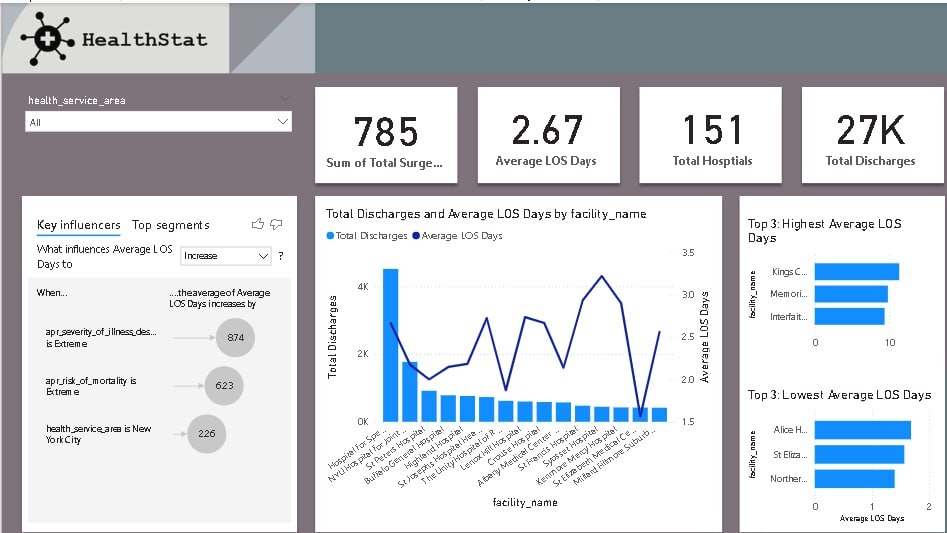

The page's visual inventory and layout, read from the dashboard file:
{"tool":"powerbi","page":{"name":"LOS  Comparison","canvas":[1280,720],"ordinal":2},"visuals":[{"type":"keyDriversVisual","fields":{"ExplainBy":["hospital_inpatient_discharges_totalhipreplacement.apr_risk_of_mortality","hospital_inpatient_discharges_totalhipreplacement.apr_severity_of_illness_description","hospital_inpatient_discharges_totalhipreplacement.ccs_diagnosis_description","hospital_inpatient_discharges_totalhipreplacement.patient_disposition","hospital_inpatient_discharges_totalhipreplacement.gender","hospital_inpatient_discharges_totalhipreplacement.Age Bins","surgical_program_size_summary.Surgical Program Size","hospital_inpatient_discharges_totalhipreplacement.health_service_area"],"Target":["Measure.Average LOS Days"]},"box":[30,270,360,425.7],"z":0},{"type":"slicer","fields":{"Values":["hospital_inpatient_discharges_totalhipreplacement.health_service_area"]},"box":[22.9,115.7,374.3,142.9],"z":1000},{"type":"card","fields":{"Values":["Sum(surgical_program_size_summary.Total Surgeons)"]},"box":[427.1,118.6,170,111.4],"z":2000},{"type":"card","fields":{"Values":["Measure.Average LOS Days"]},"box":[640,115.7,170,111.4],"z":3000},{"type":"card","fields":{"Values":["Measure.Total Hosptials"]},"box":[861.4,115.7,170,111.4],"z":4000},{"type":"card","fields":{"Values":["Measure.Total Discharges"]},"box":[1071.4,115.7,170,111.4],"z":5000},{"type":"lineStackedColumnComboChart","fields":{"Category":["hospital_inpatient_discharges_totalhipreplacement.facility_name"],"Y2":["Measure.Average LOS Days"],"Y":["Measure.Total Discharges"]},"box":[427.1,270,520,407.1],"z":6000},{"type":"clusteredBarChart","title":"Top 3: Highest Average LOS Days","fields":{"Category":["hospital_inpatient_discharges_totalhipreplacement.facility_name"],"Y":["Measure.Average LOS Days"]},"box":[987.1,282.9,254.3,185.7],"z":6001},{"type":"clusteredBarChart","title":"Top 3: Lowest Average LOS Days","fields":{"Category":["hospital_inpatient_discharges_totalhipreplacement.facility_name"],"Y":["Measure.Average LOS Days"]},"box":[987.1,510,254.3,185.7],"z":6002}]}

Visuals, with their boxes in screenshot pixels (x1, y1, x2, y2), scaled from the page's 1280x720 canvas onto the 947x533 screenshot:
keyDriversVisual - hospital_inpatient_discharges_totalhipreplacement.apr_risk_of_mortality x hospital_inpatient_discharges_totalhipreplacement.apr_severity_of_illness_description: BBox(22, 200, 289, 515)
slicer - hospital_inpatient_discharges_totalhipreplacement.health_service_area: BBox(17, 86, 294, 191)
card - Sum(surgical_program_size_summary.Total Surgeons): BBox(316, 88, 442, 170)
card - Measure.Average LOS Days: BBox(474, 86, 599, 168)
card - Measure.Total Hosptials: BBox(637, 86, 763, 168)
card - Measure.Total Discharges: BBox(793, 86, 918, 168)
lineStackedColumnComboChart - hospital_inpatient_discharges_totalhipreplacement.facility_name x Measure.Average LOS Days: BBox(316, 200, 701, 501)
"Top 3: Highest Average LOS Days" clusteredBarChart: BBox(730, 209, 918, 347)
"Top 3: Lowest Average LOS Days" clusteredBarChart: BBox(730, 378, 918, 515)
